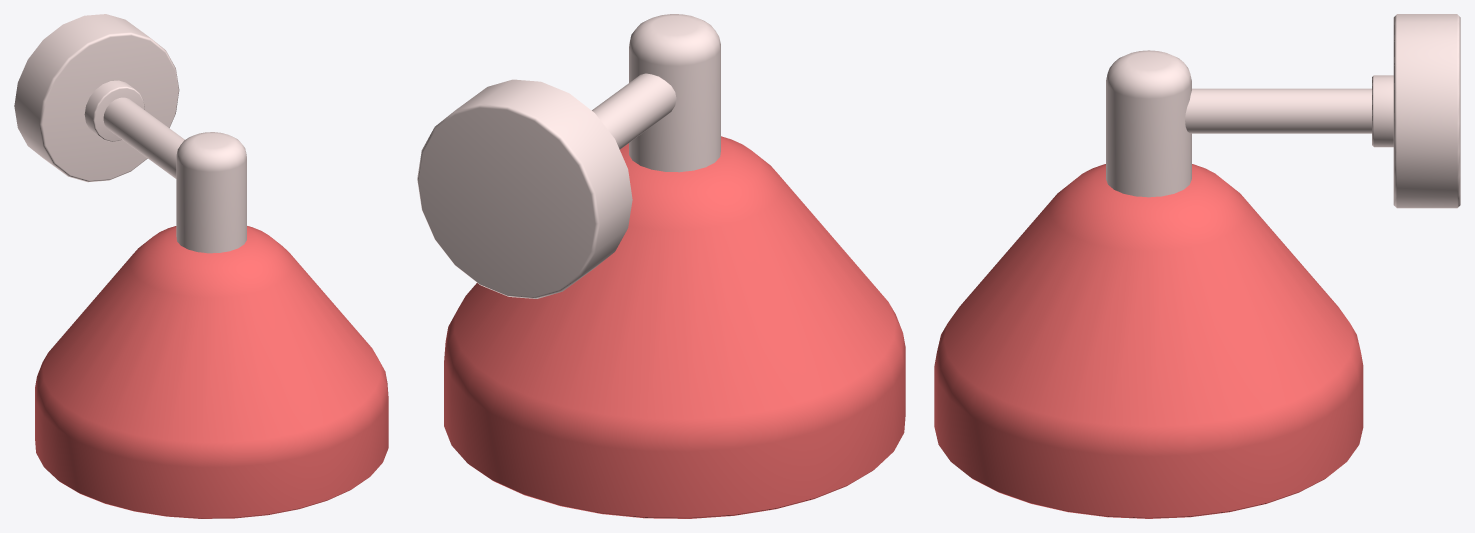
Rendered from City_15_Wall_Lamp_1.glb.
3 renders of one model, left to right at view 1: azimuth 30°, elevation 25°; view 2: azimuth 150°, elevation 25°; view 3: azimuth 270°, elevation 25°, orthographic. The views are drawn at different scales.
Parts seen in each view (by area): view 1: City_15_Wall_Lamp_1; view 2: City_15_Wall_Lamp_1; view 3: City_15_Wall_Lamp_1.
Part boxes in pixels (left/top/right/bottom): City_15_Wall_Lamp_1: left=14, top=14, right=388, bottom=518; City_15_Wall_Lamp_1: left=417, top=14, right=905, bottom=518; City_15_Wall_Lamp_1: left=934, top=14, right=1460, bottom=518.
Size of the model in its own units: 0.6104 by 0.6389 by 0.7485.
1 material, 1 textured.
